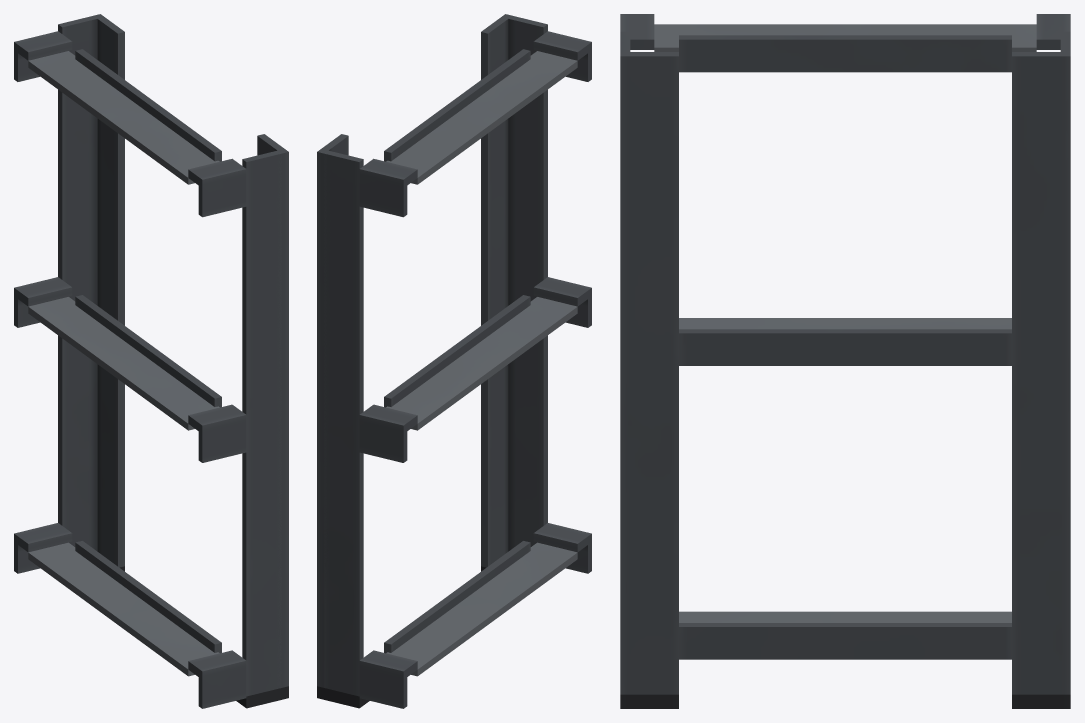
File: joint_right_lower.obj
3 renders of one model, left to right at view 1: azimuth 30°, elevation 25°; view 2: azimuth 150°, elevation 25°; view 3: azimuth 270°, elevation 25°, orthographic. The views are drawn at different scales.
Parts seen in each view (by area): view 1: joint_right_lower__joint_right_lower_posts, joint_right_lower__joint_right_lower_deck, joint_right_lower__joint_right_lower_beams, joint_right_lower__joint_right_lower_foot1; view 2: joint_right_lower__joint_right_lower_posts, joint_right_lower__joint_right_lower_deck, joint_right_lower__joint_right_lower_beams, joint_right_lower__joint_right_lower_foot-1; view 3: joint_right_lower__joint_right_lower_posts, joint_right_lower__joint_right_lower_beams, joint_right_lower__joint_right_lower_deck, joint_right_lower__joint_right_lower_foot-1, joint_right_lower__joint_right_lower_foot1.
Part boxes in pixels (bbox=[...]): joint_right_lower__joint_right_lower_posts: bbox=[58, 14, 288, 696]; joint_right_lower__joint_right_lower_deck: bbox=[28, 51, 219, 676]; joint_right_lower__joint_right_lower_beams: bbox=[14, 31, 246, 708]; joint_right_lower__joint_right_lower_foot1: bbox=[236, 686, 288, 708]; joint_right_lower__joint_right_lower_posts: bbox=[317, 14, 547, 696]; joint_right_lower__joint_right_lower_deck: bbox=[386, 51, 577, 676]; joint_right_lower__joint_right_lower_beams: bbox=[359, 31, 591, 708]; joint_right_lower__joint_right_lower_foot-1: bbox=[317, 686, 369, 708]; joint_right_lower__joint_right_lower_posts: bbox=[620, 31, 1070, 694]; joint_right_lower__joint_right_lower_beams: bbox=[620, 14, 1070, 659]; joint_right_lower__joint_right_lower_deck: bbox=[654, 24, 1036, 622]; joint_right_lower__joint_right_lower_foot-1: bbox=[1012, 694, 1070, 708]; joint_right_lower__joint_right_lower_foot1: bbox=[620, 694, 678, 708].
Size of the model in its own units: 0.1656 by 1 by 0.625.
